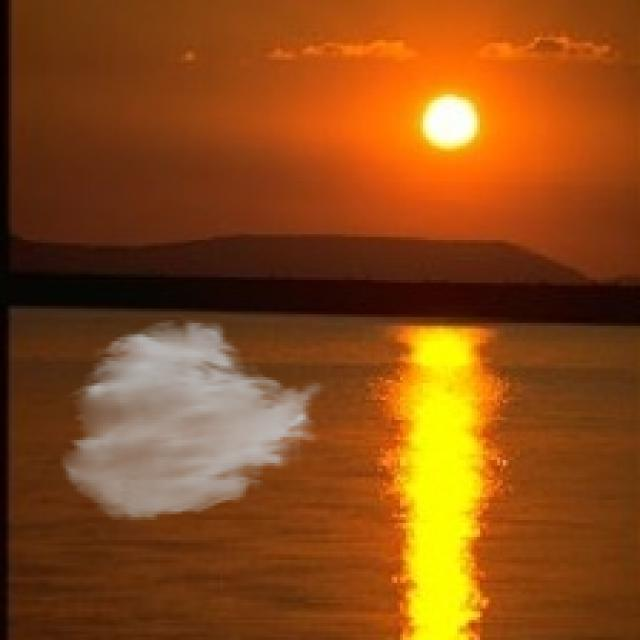Smoke: (57, 317, 329, 523)
